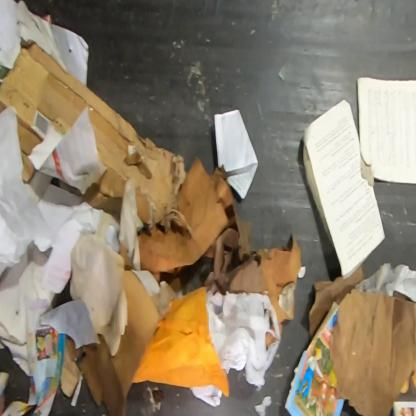cardboard: (0, 41, 193, 236), (284, 300, 347, 415), (266, 332, 275, 348)
soft_plastic: (206, 289, 282, 388), (189, 384, 223, 408)
